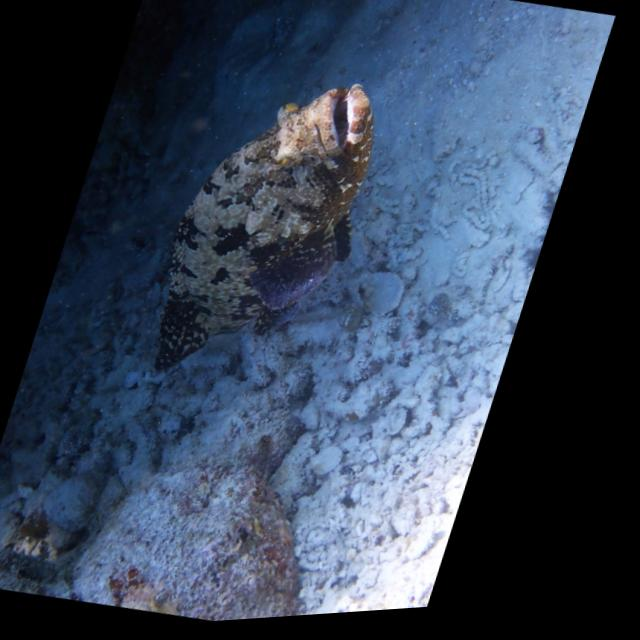Groupers: (128, 52, 407, 402)
